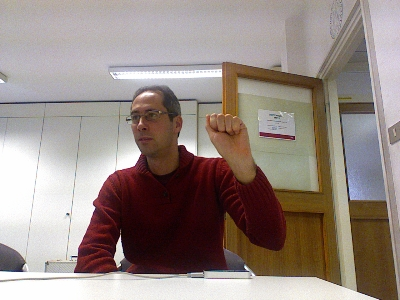石头: (201, 111, 254, 159)
